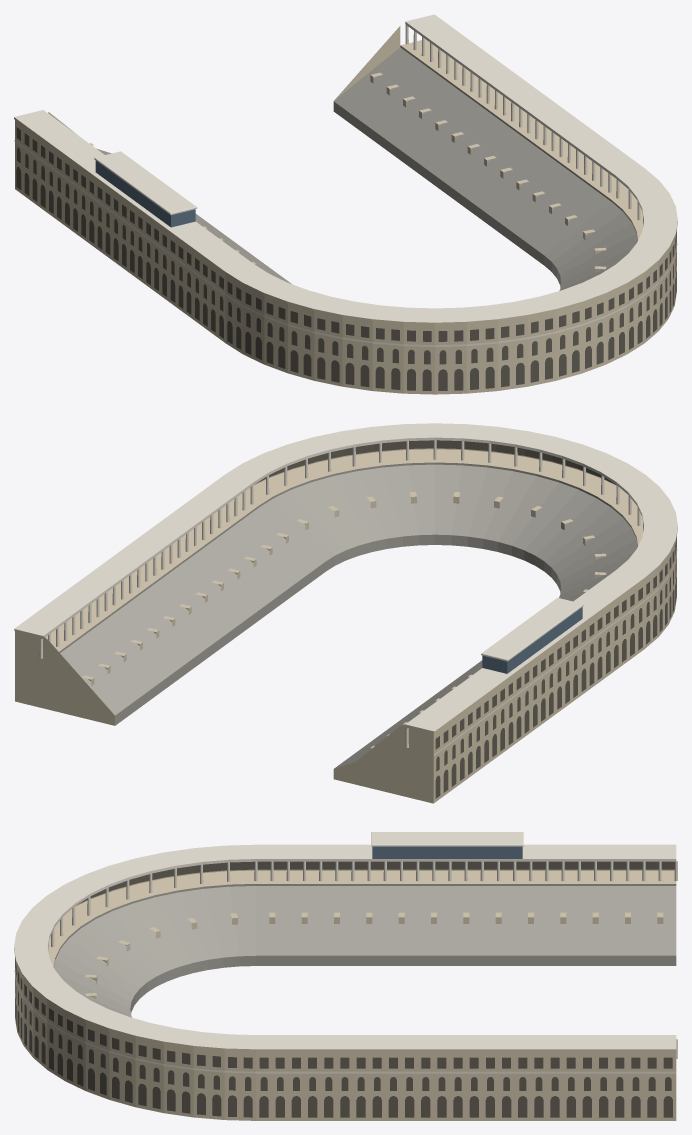
The model's file is bos-harvard-stadium.glb.
The picture shows the model from 3 angles, top to bottom: view 1: azimuth 30°, elevation 25°; view 2: azimuth 150°, elevation 25°; view 3: azimuth 270°, elevation 25°; orthographic projection.
Parts seen in each view (by area): view 1: Harvard Stadium; view 2: Harvard Stadium; view 3: Harvard Stadium.
Part boxes in pixels (x1,y1,x2,y2): Harvard Stadium: [14, 14, 677, 394]; Harvard Stadium: [14, 423, 677, 803]; Harvard Stadium: [14, 832, 677, 1120].
Bounding box in the file's own units: 129 × 25.5 × 177.
